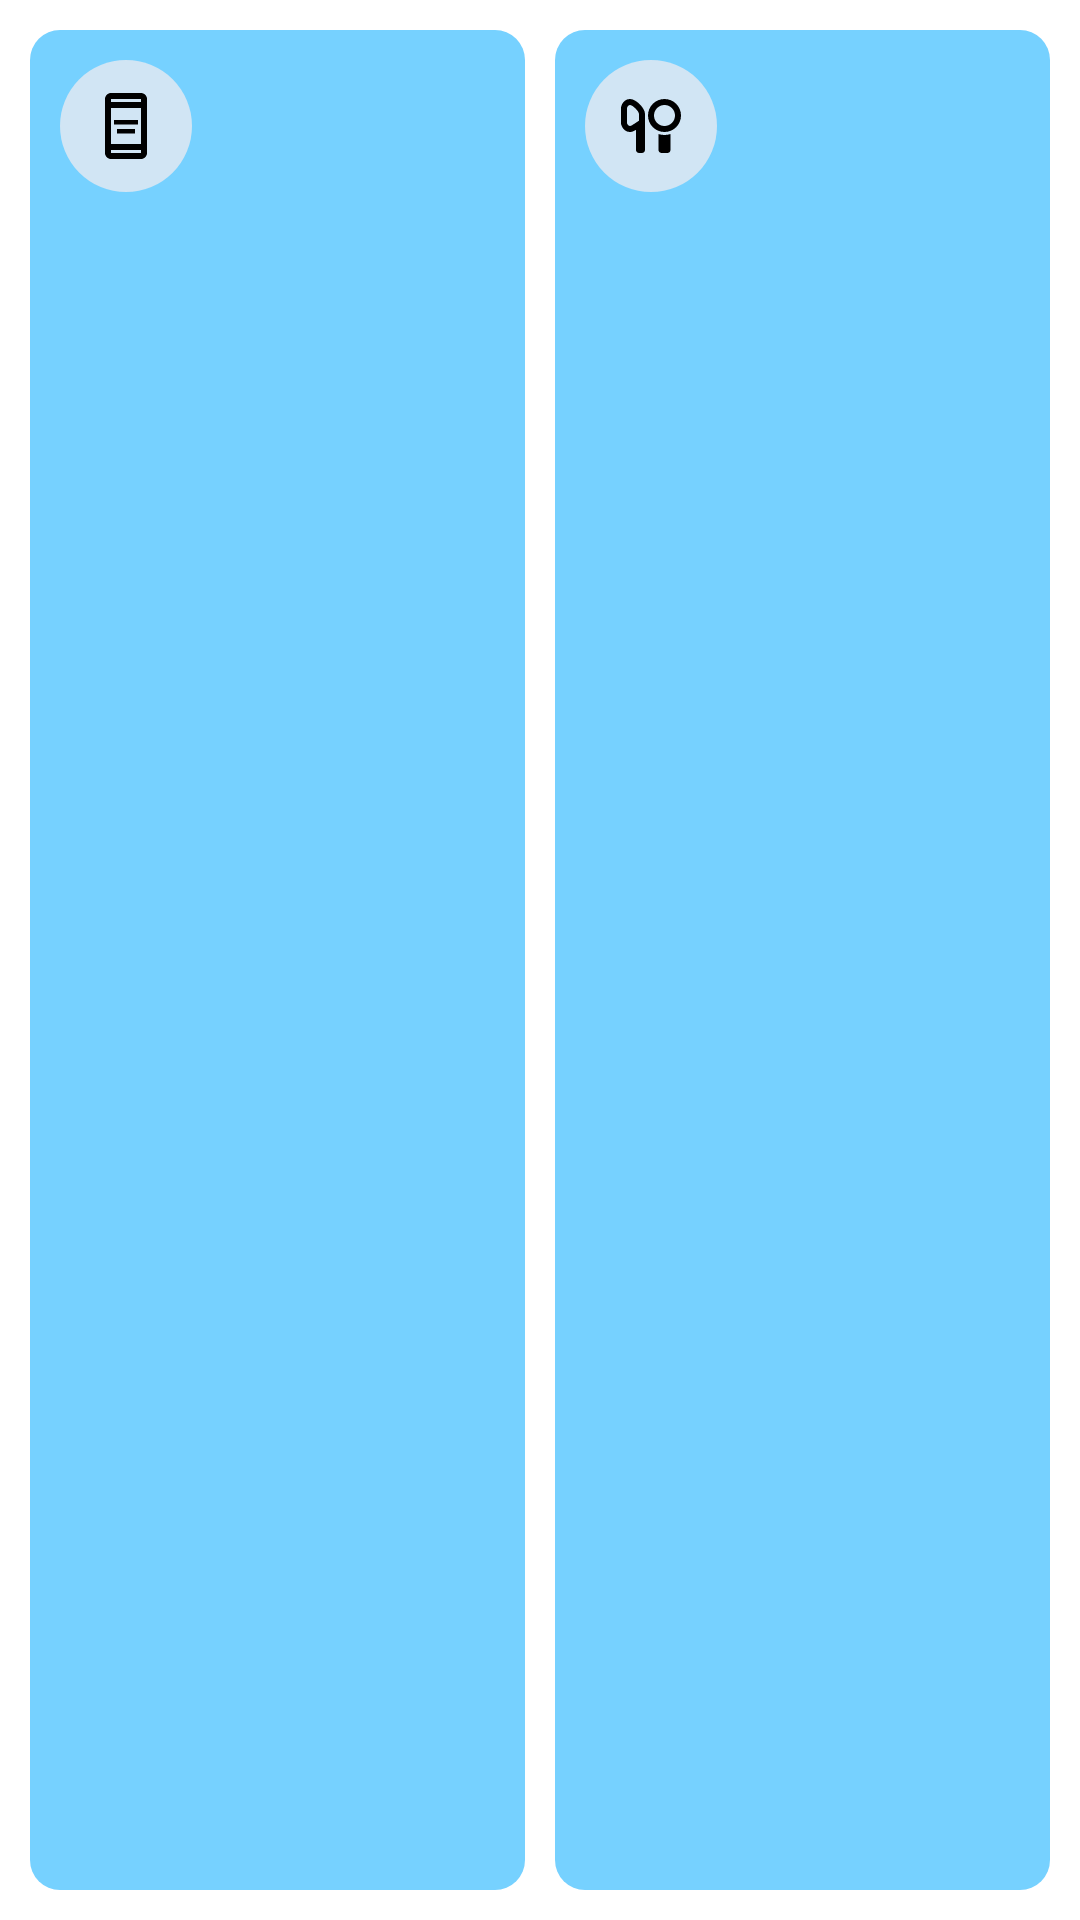

Named icons in this screenshot (1080px×1920px) and their bounding boxes, rect(x1, y1, x2, y2):
aod: rect(60, 60, 192, 192)
earbuds: rect(585, 60, 717, 192)
